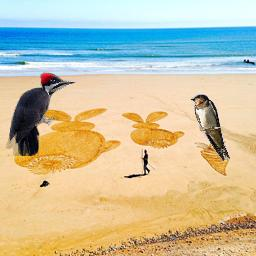Swallow: (190, 94, 230, 161)
Woodpecker: (6, 72, 78, 156)
